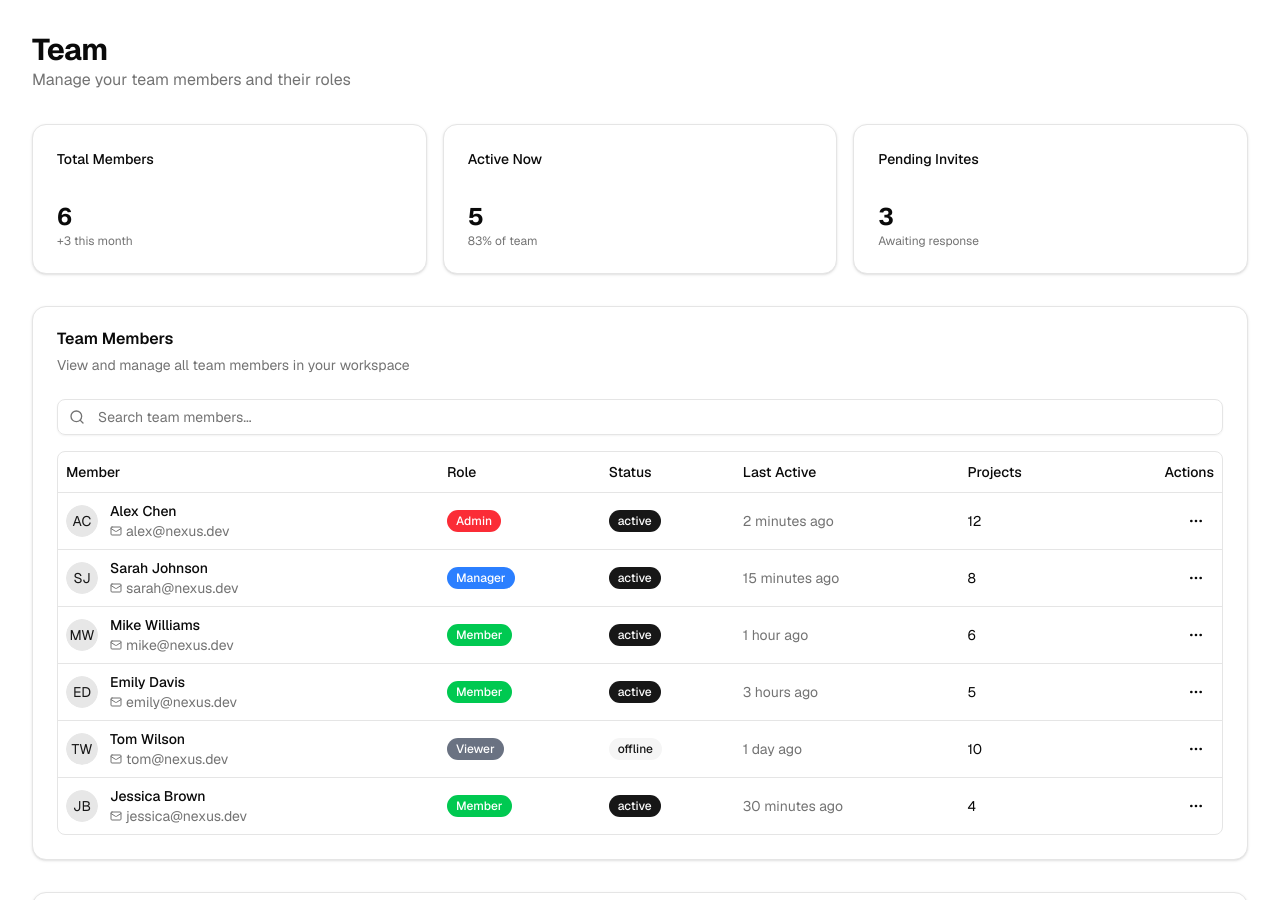
TeamPage RBAC Integration › Member User › should not show Edit Role action for member
The image size is (1280, 900).
Step 1. Click the button without text in the row of "alex@nexus.dev" → (1196, 520), box [1178, 502, 1214, 538]
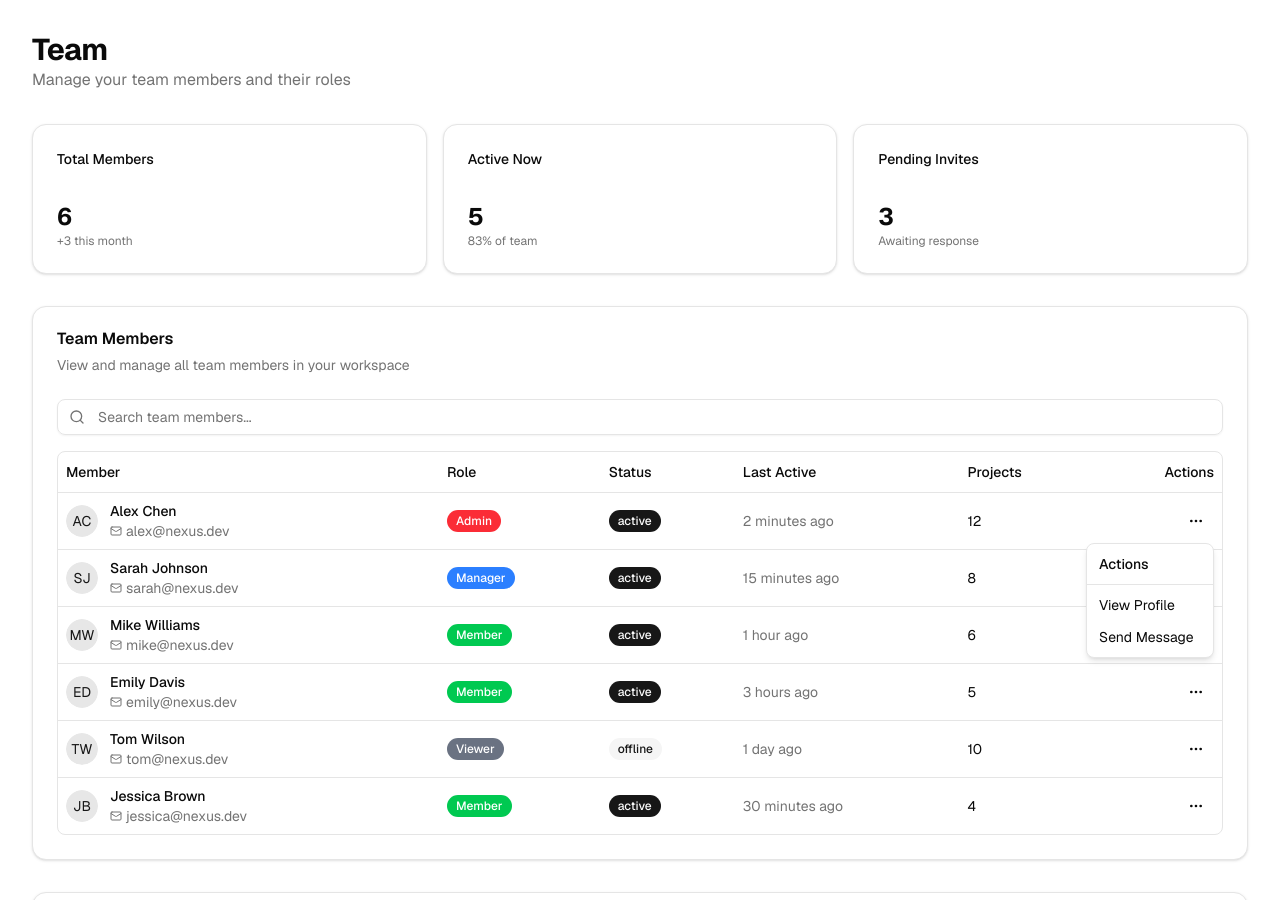
Now the menu item "View Profile" is shown, box [1099, 596, 1175, 614]
